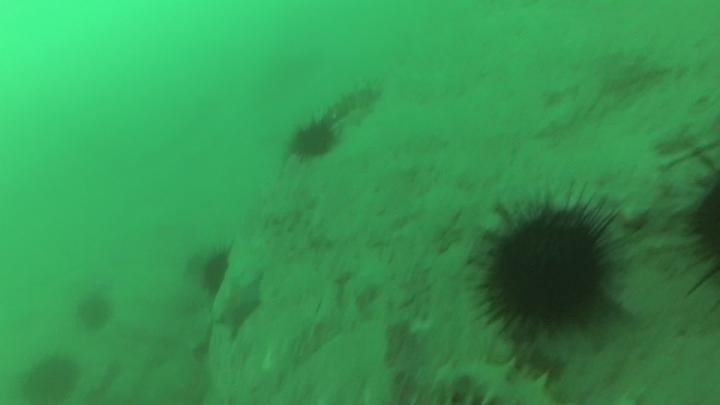echinus: (473, 192, 624, 343), (684, 181, 720, 286), (18, 352, 82, 404), (286, 115, 341, 164), (196, 245, 235, 299), (73, 289, 116, 333)
holothurian: (426, 355, 562, 404), (314, 77, 384, 126)
starfish: (212, 270, 267, 340)
